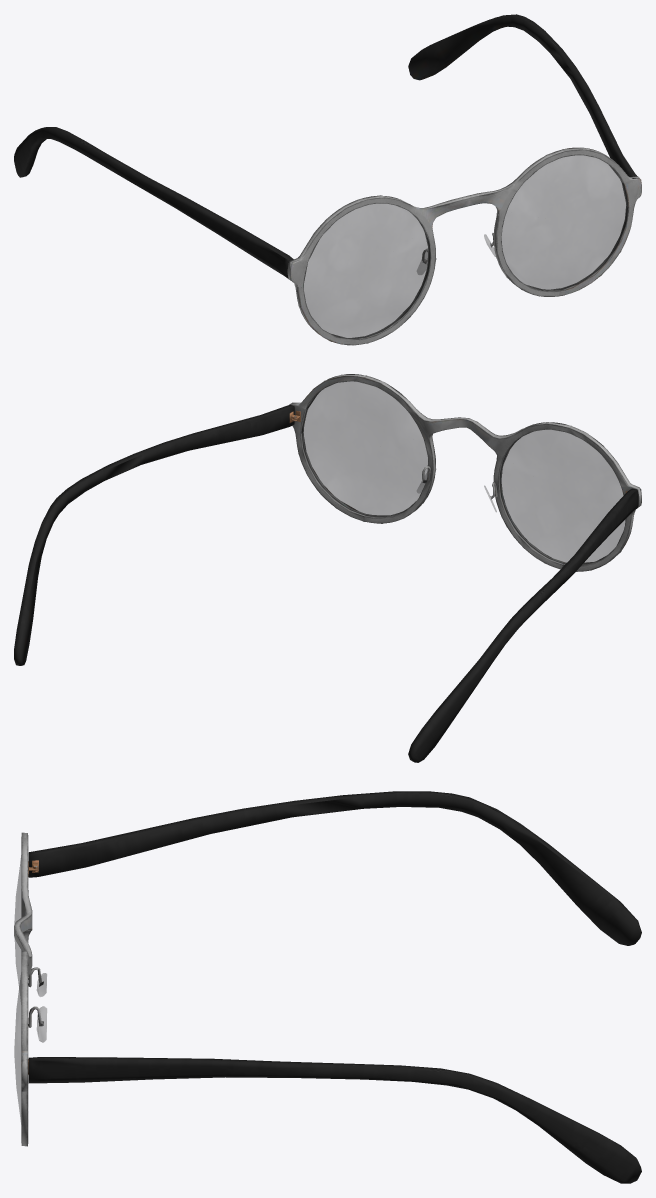
The model's file is ph_round_spectacles.glb.
The picture shows the model from 3 angles, top to bottom: view 1: azimuth 30°, elevation 25°; view 2: azimuth 150°, elevation 25°; view 3: azimuth 270°, elevation 25°; orthographic projection. The views are drawn at different scales.
Visible parts, largest first — view 1: round_spectacles; view 2: round_spectacles; view 3: round_spectacles.
Boxes of the visible parts, x1,y1,x2,y2 form: round_spectacles: (14, 14, 641, 345); round_spectacles: (14, 374, 641, 762); round_spectacles: (14, 791, 641, 1183).
Bounding box in the file's own units: 0.158 × 0.0466 × 0.149.
2 materials, 2 textured.
